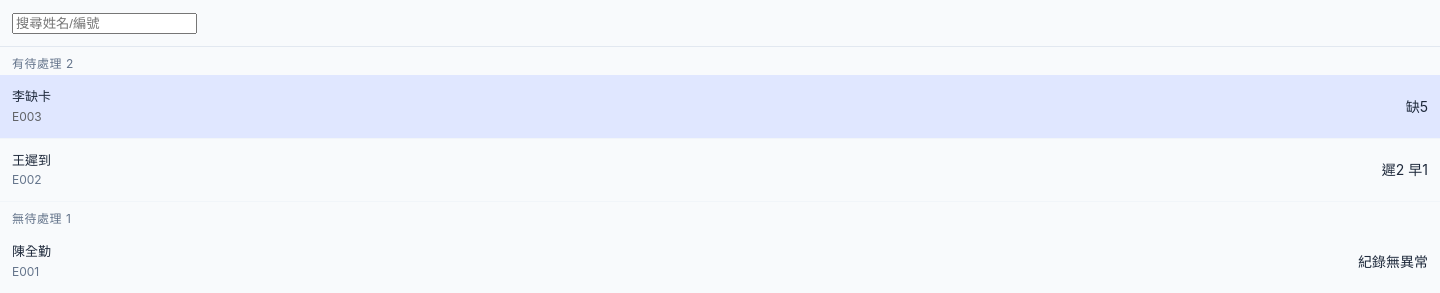
Test case: RosterColumn — 鍵盤操作（listbox / roving tabindex） › 搜尋縮小清單後，Tab 停點落在仍可見的列（不會指向被濾掉的人）
The image size is (1440, 293).
Type "陳" into the field with placeholder "搜尋姓名/編號" at point(104, 24), box [12, 13, 197, 34]
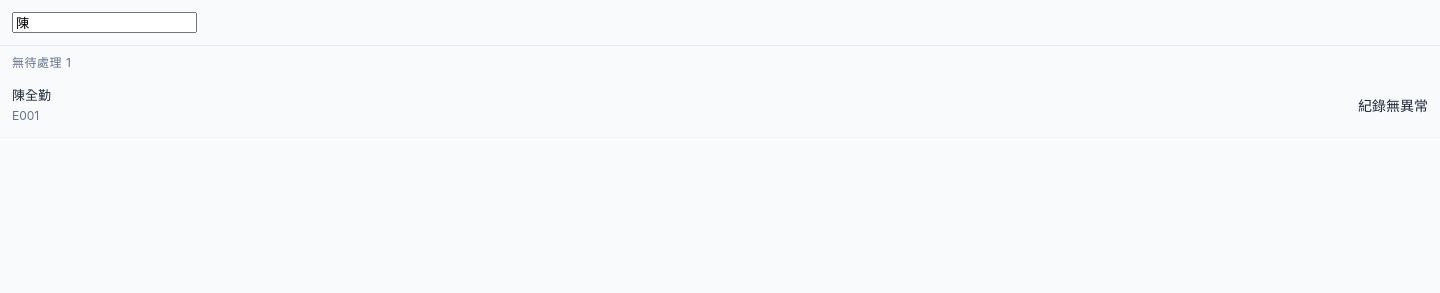
Result: the number of options is 1 at [0, 74, 1439, 138]
